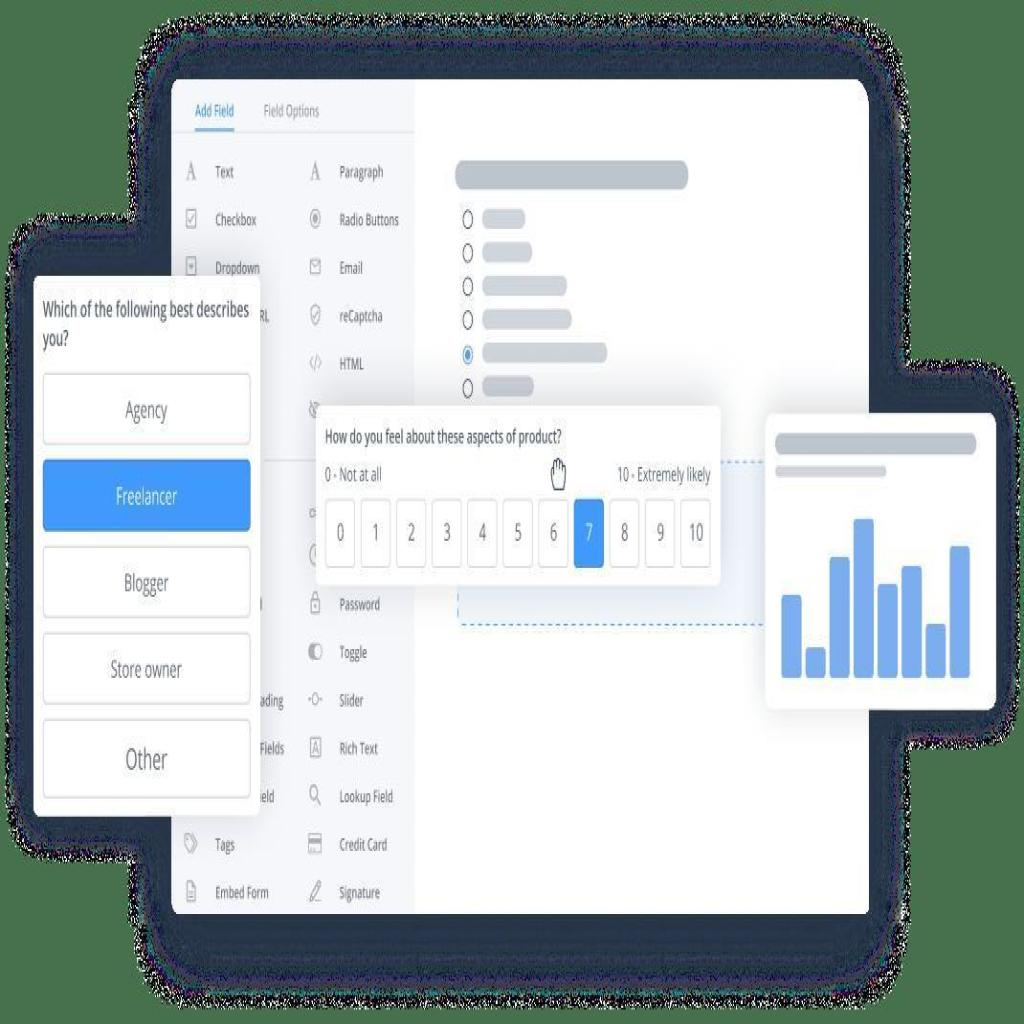button: (43, 719, 251, 797), (42, 370, 250, 447), (43, 460, 250, 535), (42, 633, 249, 705), (43, 544, 249, 616), (644, 497, 675, 568), (538, 498, 568, 570), (574, 499, 605, 568), (680, 499, 711, 568), (503, 499, 534, 566), (396, 499, 426, 566), (467, 499, 497, 566), (610, 499, 639, 568), (433, 497, 461, 568), (326, 499, 354, 568), (362, 499, 390, 568)
checkbox: (186, 209, 196, 229)
dropdown: (186, 256, 196, 276)
icon: (307, 828, 323, 858), (309, 782, 324, 810), (309, 160, 324, 186), (308, 590, 323, 616), (309, 734, 323, 761), (186, 876, 198, 907), (310, 876, 323, 903), (184, 831, 198, 856), (310, 301, 322, 330), (184, 159, 197, 184), (309, 256, 323, 278), (309, 354, 324, 374), (308, 690, 324, 705)
label: (339, 784, 393, 808), (339, 209, 400, 229), (264, 101, 323, 121), (215, 884, 270, 904), (338, 835, 388, 856), (339, 883, 381, 907), (338, 164, 384, 184), (338, 308, 384, 326), (216, 211, 258, 229), (339, 595, 381, 613), (216, 260, 260, 276), (194, 103, 236, 119), (340, 741, 379, 757), (338, 353, 366, 375), (339, 642, 367, 663), (214, 836, 236, 856), (340, 258, 364, 276), (340, 690, 364, 708), (216, 162, 236, 182)
radio: (461, 208, 474, 232), (462, 306, 474, 332), (309, 207, 322, 231), (462, 343, 474, 366), (462, 379, 474, 400), (462, 244, 474, 264), (462, 276, 474, 296)
switch: (308, 642, 325, 662)
